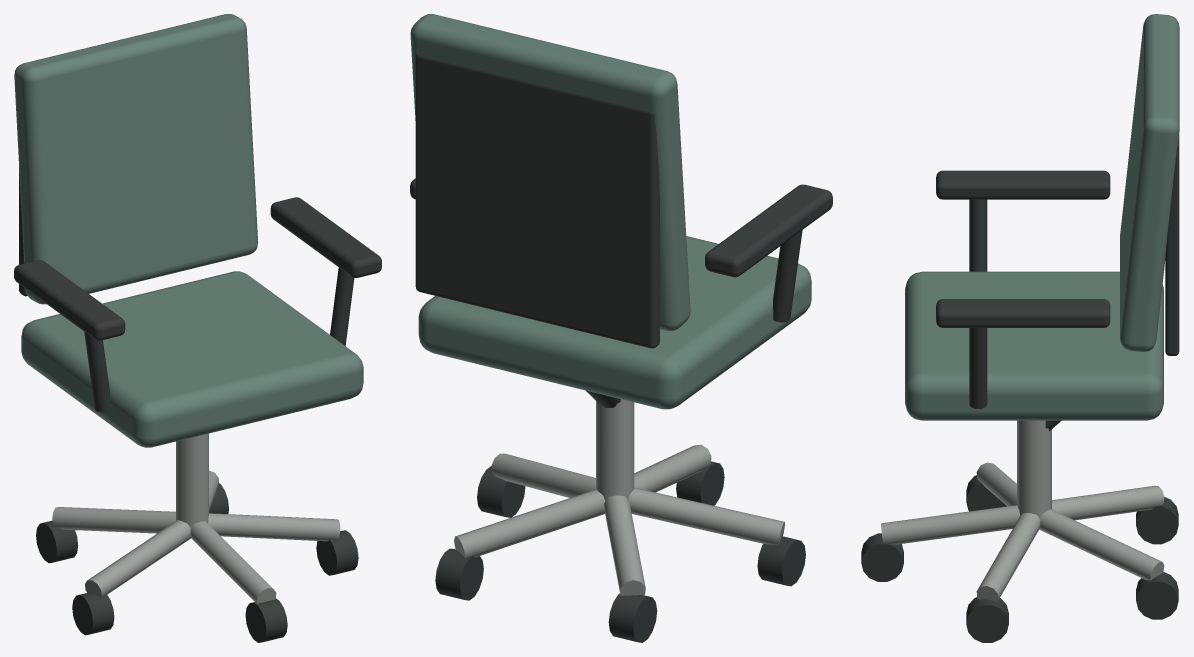
Rendered from officeChair.glb.
The picture shows the model from 3 angles, left to right: view 1: azimuth 30°, elevation 25°; view 2: azimuth 150°, elevation 25°; view 3: azimuth 270°, elevation 25°; orthographic projection. The views are drawn at different scales.
Visible parts, largest first — view 1: Curved padded back, Upholstered seat, Five star base arm (×4), Arm pad (×2), Caster (×4), Gas lift, Arm support (×2); view 2: Back shell, Upholstered seat, Curved padded back, Five star base arm (×5), Caster (×5), Arm pad, Gas lift, Arm support; view 3: Upholstered seat, Curved padded back, Five star base arm (×5), Arm pad (×2), Caster (×5), Gas lift, Arm support (×2), Back shell.
Part boxes in pixels (x1=…): Curved padded back: x1=14, y1=14, x2=258, y2=304; Upholstered seat: x1=21, y1=271, x2=363, y2=447; Five star base arm (×4): x1=52, y1=507, x2=340, y2=603; Arm pad (×2): x1=14, y1=197, x2=381, y2=340; Caster (×4): x1=36, y1=520, x2=358, y2=642; Gas lift: x1=176, y1=433, x2=208, y2=527; Arm support (×2): x1=84, y1=267, x2=354, y2=412; Back shell: x1=415, y1=54, x2=659, y2=348; Upholstered seat: x1=418, y1=236, x2=811, y2=409; Curved padded back: x1=410, y1=14, x2=690, y2=330; Five star base arm (×5): x1=454, y1=444, x2=784, y2=595; Caster (×5): x1=435, y1=461, x2=805, y2=642; Arm pad: x1=705, y1=184, x2=832, y2=277; Gas lift: x1=596, y1=399, x2=634, y2=500; Arm support: x1=773, y1=230, x2=802, y2=322; Upholstered seat: x1=905, y1=271, x2=1163, y2=420; Curved padded back: x1=1120, y1=14, x2=1179, y2=351; Five star base arm (×5): x1=881, y1=462, x2=1164, y2=602; Arm pad (×2): x1=936, y1=170, x2=1110, y2=327; Caster (×5): x1=861, y1=475, x2=1178, y2=642; Gas lift: x1=1017, y1=420, x2=1051, y2=518; Arm support (×2): x1=969, y1=199, x2=987, y2=408; Back shell: x1=1165, y1=135, x2=1179, y2=355.
Bounding box in the file's own units: 0.605 × 1 × 0.5661.
